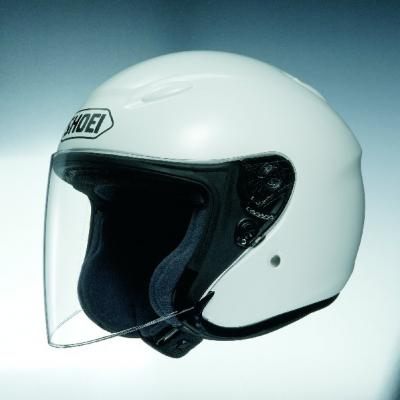helmet: (45, 62, 366, 323)
